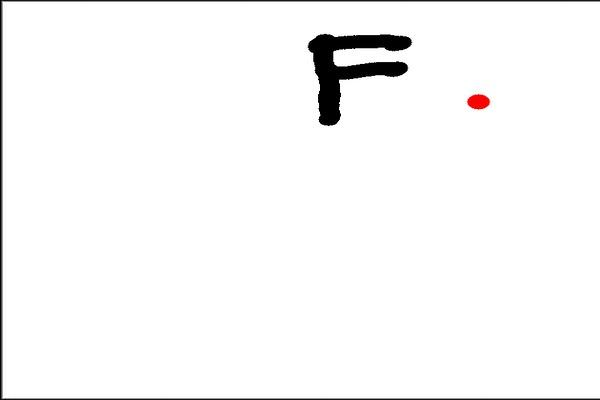F: (304, 28, 416, 128)
